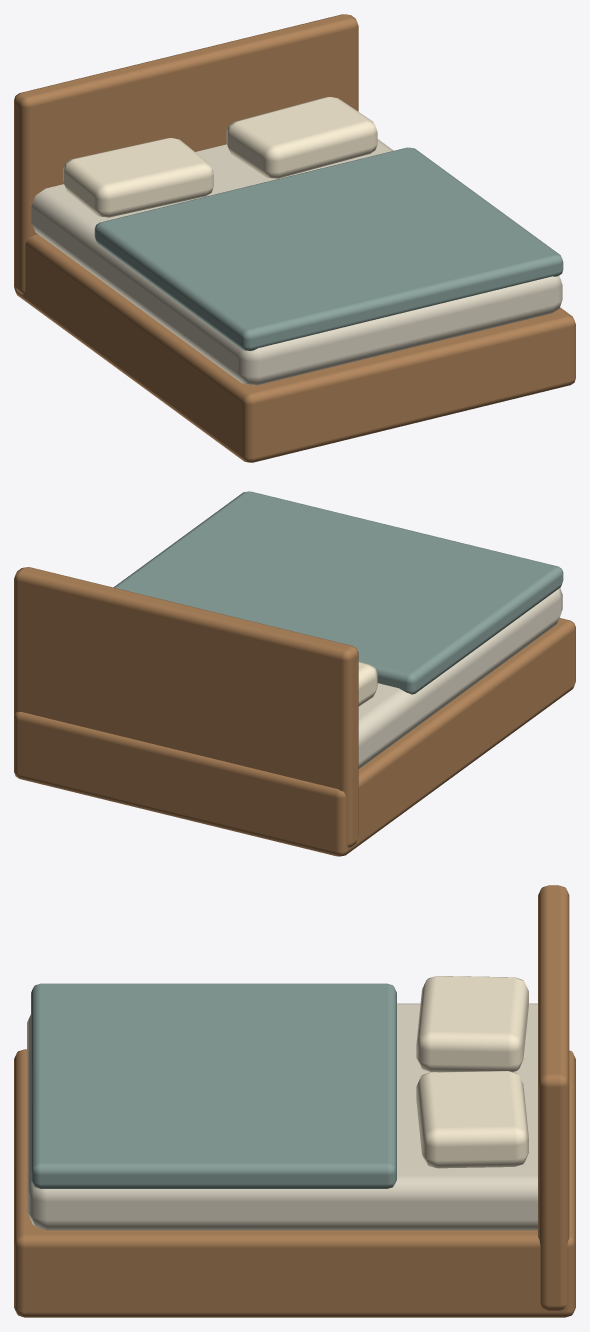
Rendered from bed.glb.
The picture shows the model from 3 angles, top to bottom: view 1: azimuth 30°, elevation 25°; view 2: azimuth 150°, elevation 25°; view 3: azimuth 270°, elevation 25°; orthographic projection. The views are drawn at different scales.
Size of the model in its own units: 1.78 by 1.03 by 2.15.
